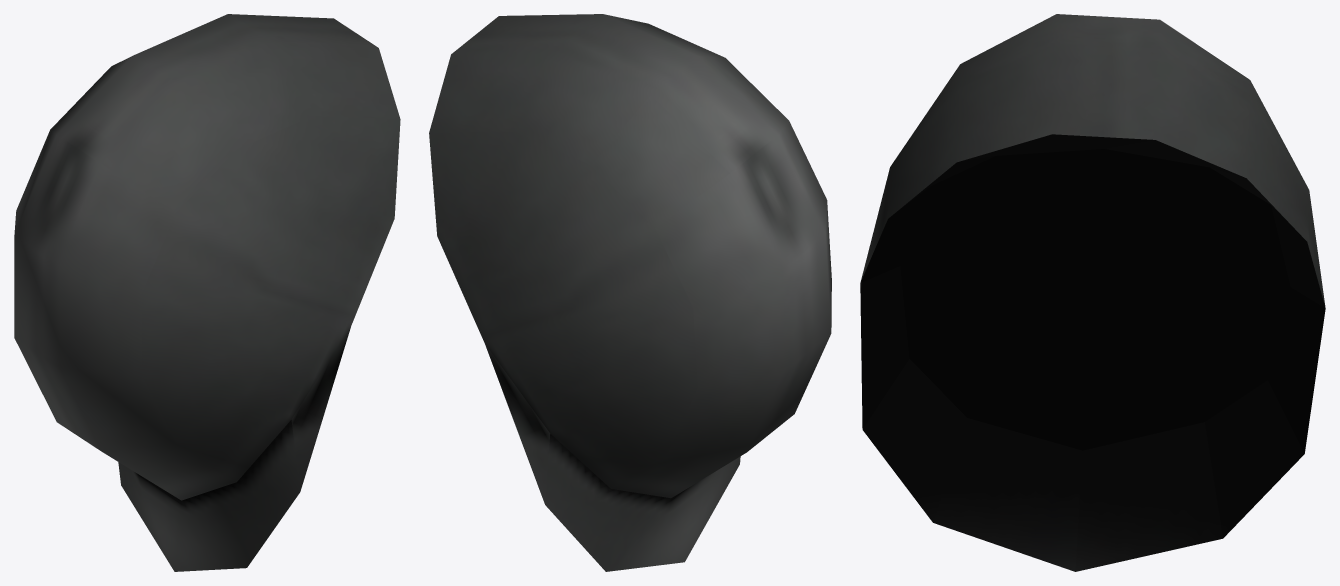
File: hat.FBX
The picture shows the model from 3 angles, left to right: view 1: azimuth 30°, elevation 25°; view 2: azimuth 150°, elevation 25°; view 3: azimuth 270°, elevation 25°; orthographic projection. The views are drawn at different scales.
Parts seen in each view (by area): view 1: hat; view 2: hat; view 3: hat.
Part boxes in pixels (x1,y1,x2,y2): hat: (14,14,400,571); hat: (429,14,831,571); hat: (860,14,1325,571).
Bounding box in the file's own units: 25.77 × 38.86 × 28.45.
Materials: 1 (1 with a texture image).
